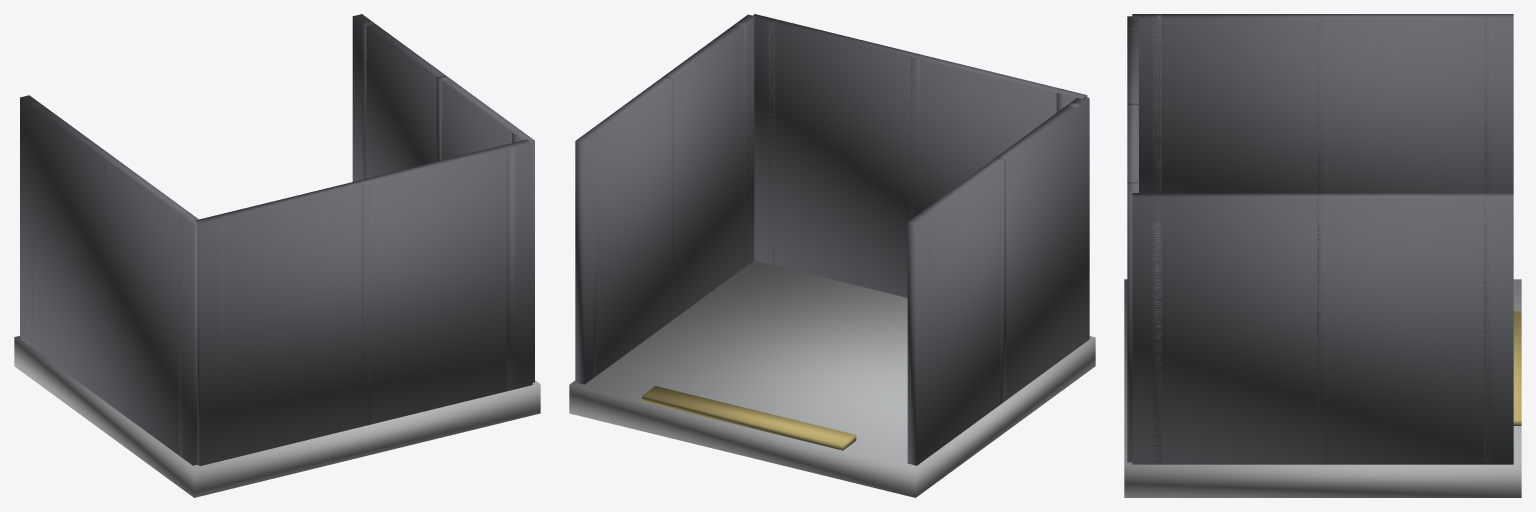
The model's file is floor_w150_d135_three.glb.
3 renders of one model, left to right at view 1: azimuth 30°, elevation 25°; view 2: azimuth 150°, elevation 25°; view 3: azimuth 270°, elevation 25°, orthographic. The views are drawn at different scales.
Parts seen in each view (by area): view 1: world; view 2: world; view 3: world.
Part boxes in pixels (x1,y1,x2,y2): world: [14, 14, 540, 497]; world: [569, 14, 1095, 497]; world: [1124, 14, 1521, 497].
Bounding box in the file's own units: 1.5 × 1.12 × 1.35.
